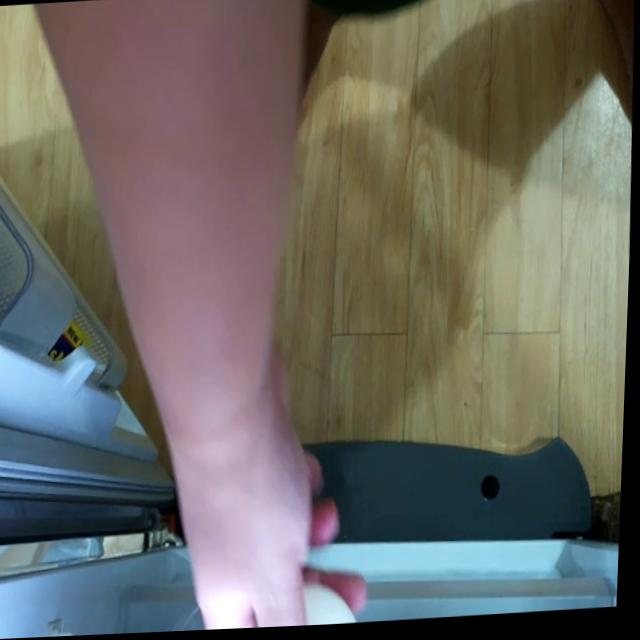egg: (299, 586, 358, 629)
